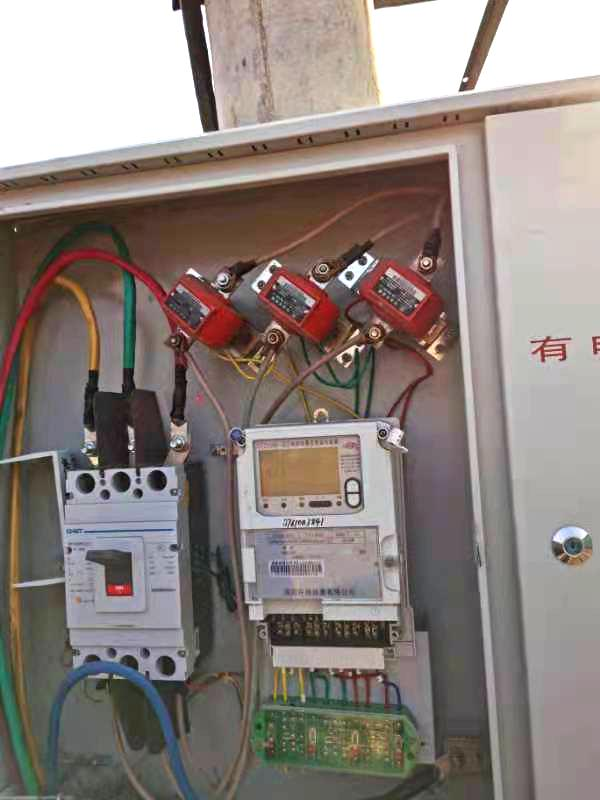digital: (231, 421, 395, 602)
